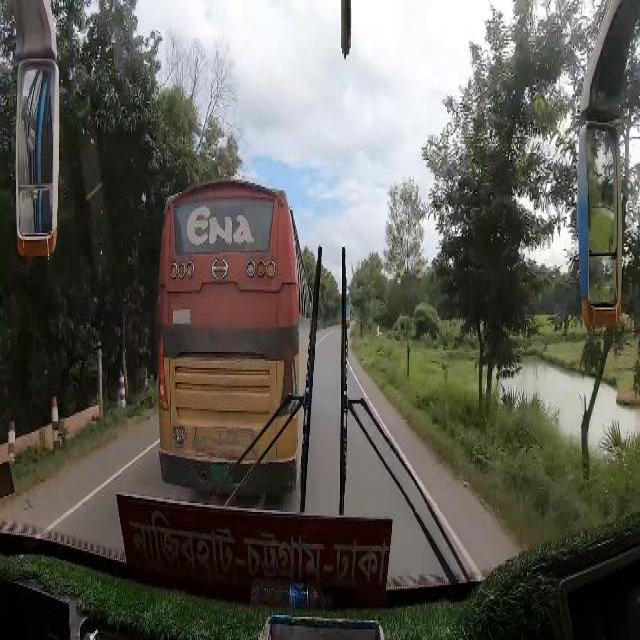vehicle: (157, 178, 312, 492)
